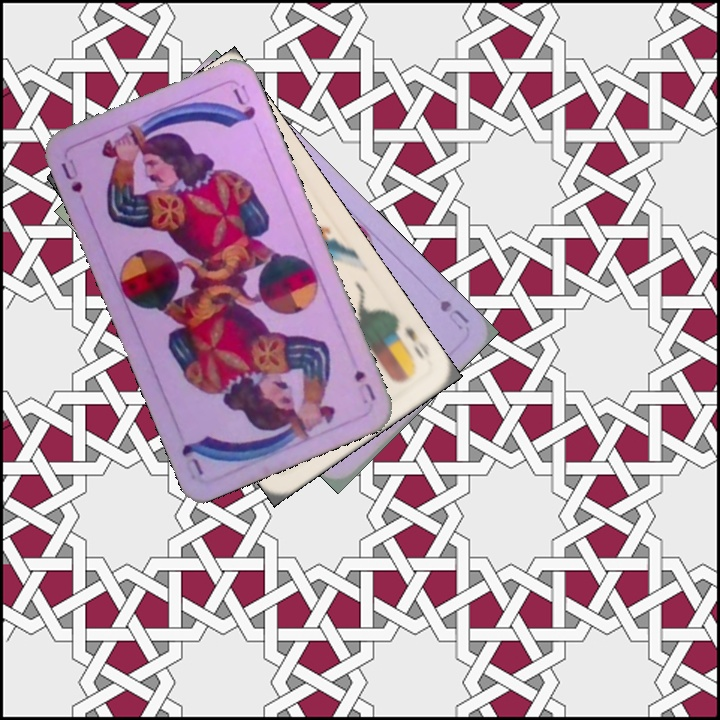EO: (391, 317, 427, 371)
SU: (436, 296, 472, 333), (57, 155, 86, 195), (350, 366, 378, 404)
